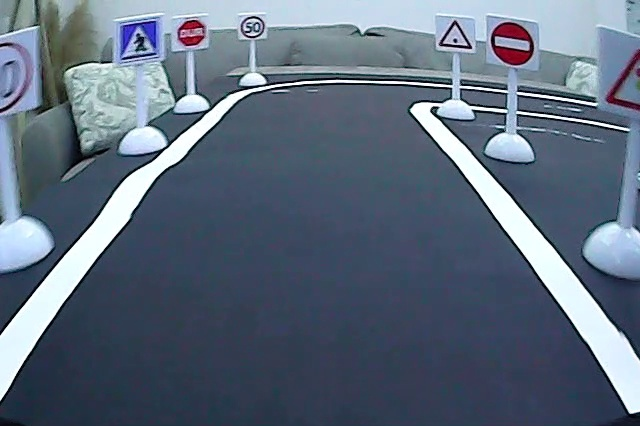do not enter: (488, 18, 538, 71)
green light: (436, 16, 474, 54)
pedestrian crossing: (114, 16, 162, 64)
speed limit 50: (239, 14, 267, 40)
stop sign: (174, 17, 207, 49)
